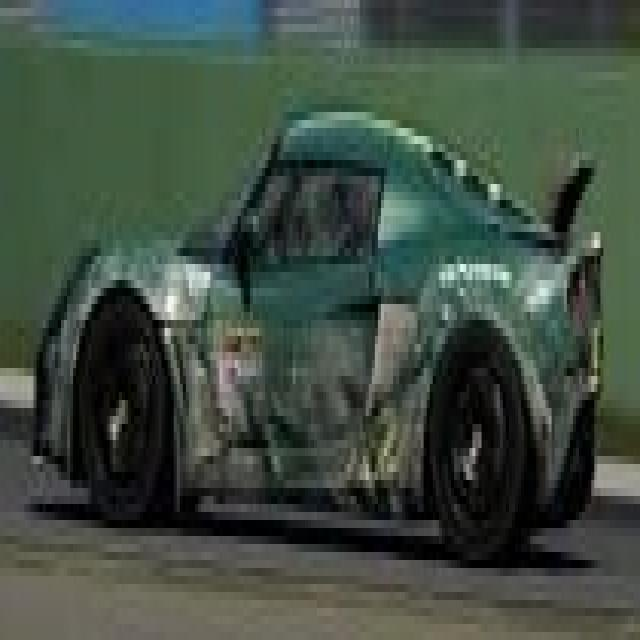minor: (64, 227, 581, 521)
